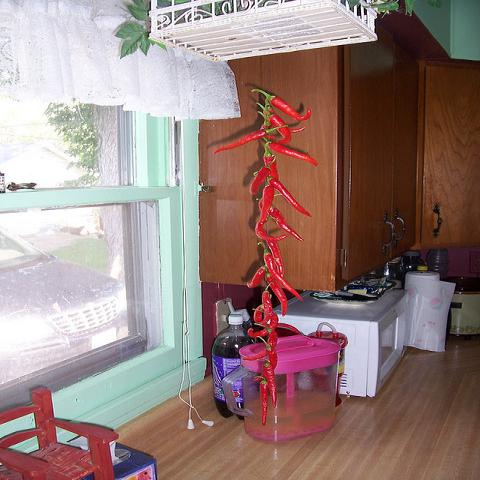car: (1, 234, 128, 382)
